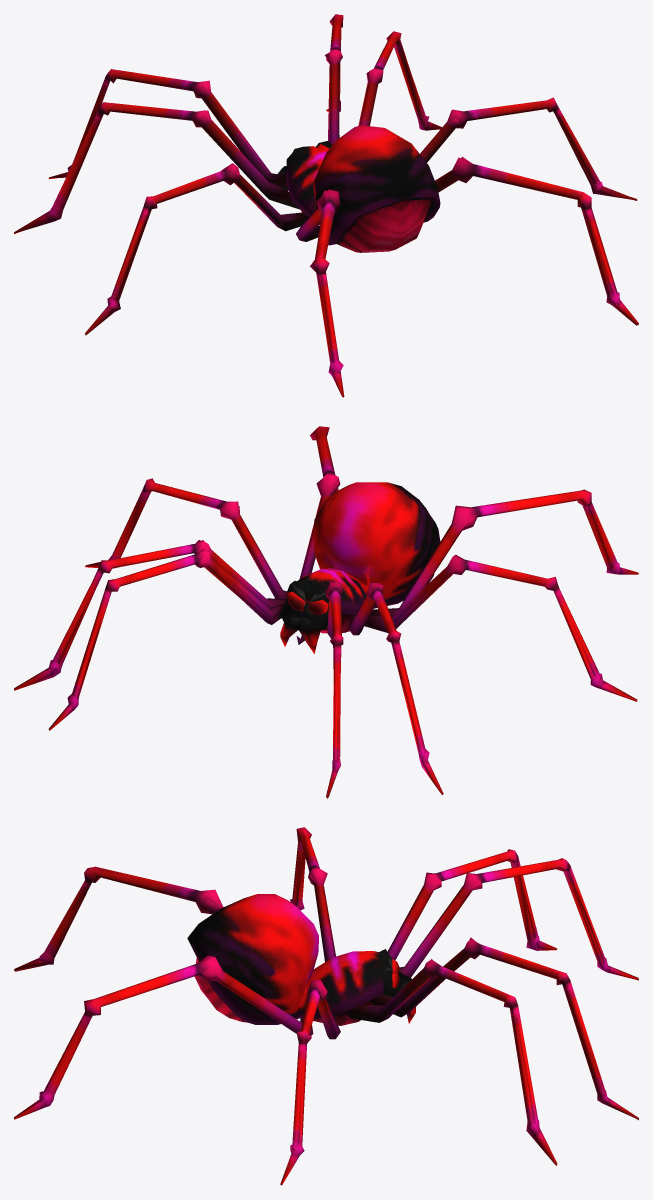
File: CHAR_SPID_POISON_RED.fbx
3 renders of one model, top to bottom at view 1: azimuth 30°, elevation 25°; view 2: azimuth 150°, elevation 25°; view 3: azimuth 270°, elevation 25°, orthographic. The views are drawn at different scales.
Parts seen in each view (by area): view 1: CHAR_SPID_POISON_RED; view 2: CHAR_SPID_POISON_RED; view 3: CHAR_SPID_POISON_RED.
Boxes of the visible parts, bbox=[...] form: CHAR_SPID_POISON_RED: bbox=[14, 14, 638, 397]; CHAR_SPID_POISON_RED: bbox=[14, 426, 638, 798]; CHAR_SPID_POISON_RED: bbox=[14, 827, 638, 1185].
Size of the model in its own units: 19907 by 5359 by 18900.
Materials: 1 (1 with a texture image).
